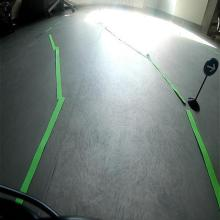right: (203, 56, 219, 77)
